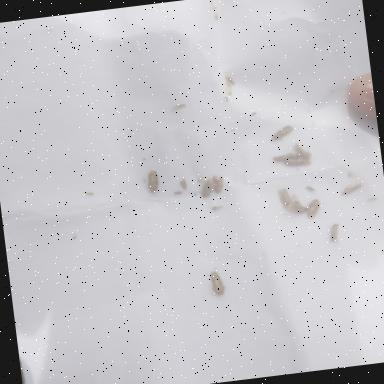pbw: (204, 270, 226, 299), (142, 168, 162, 199), (280, 194, 304, 216), (268, 124, 296, 141), (302, 198, 322, 220), (198, 178, 217, 200), (292, 140, 312, 160), (275, 186, 291, 207), (340, 182, 362, 196), (272, 151, 296, 163), (282, 157, 308, 168), (212, 176, 226, 195), (328, 224, 341, 243), (178, 178, 188, 192)
